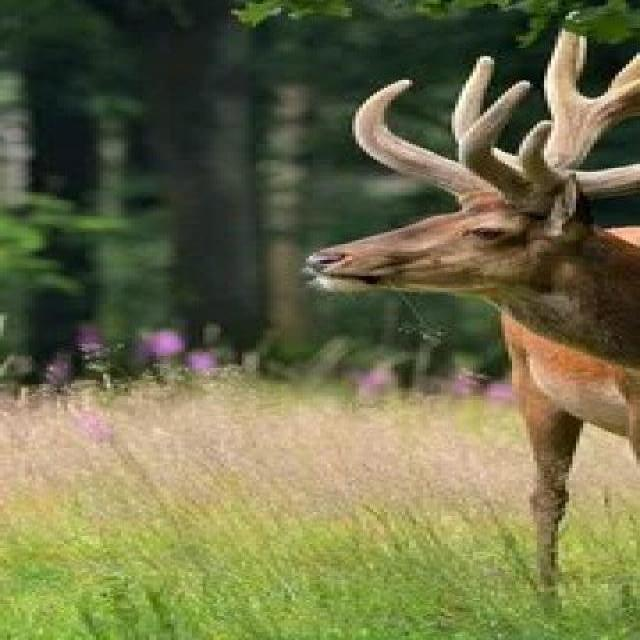deer: (301, 6, 640, 640)
